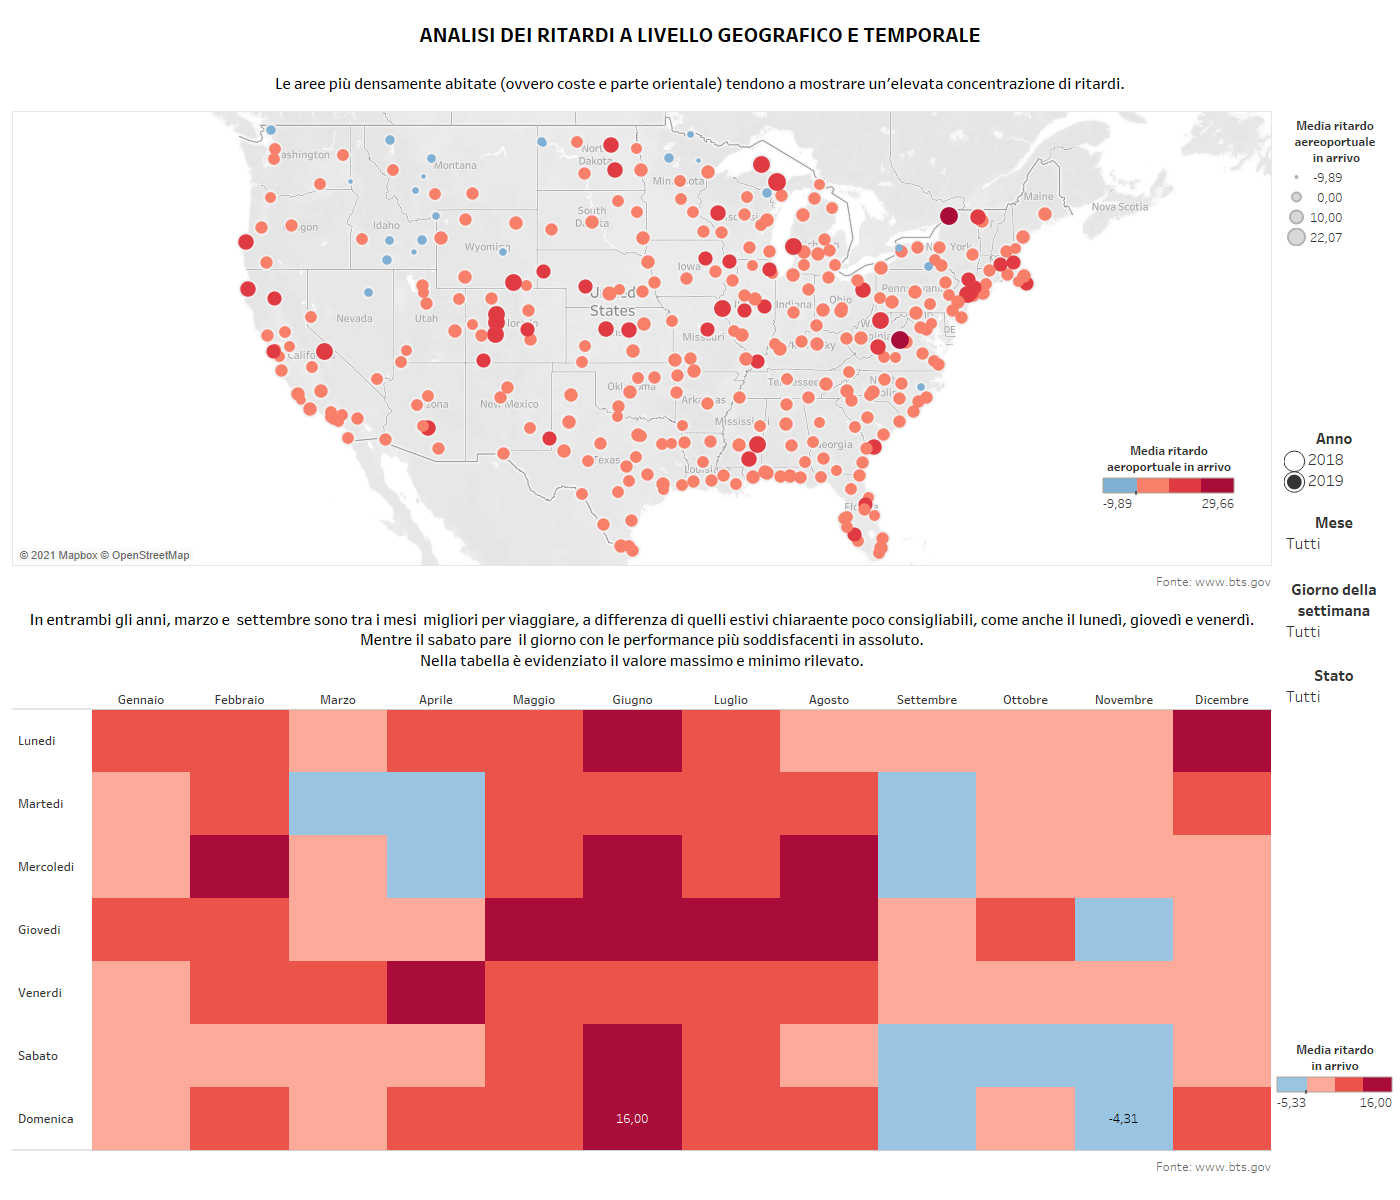

The dashboard page shown, as its layout file describes it:
{"tool":"tableau","page":{"name":"Dashboard2","canvas":[1400,1200],"ordinal":2},"visuals":[{"type":"worksheet","box":[0,0,1400,1200]},{"type":"worksheet","box":[8,8,1384,52]},{"type":"worksheet","box":[8,60,1384,46.7]},{"type":"worksheet","param":"horz","box":[8,106.7,1384,1085.3]},{"type":"worksheet","box":[8,106.7,1384,1085.3]},{"type":"worksheet","title":"mappa","mark":"Automatic","rows":["Dest_airport_coordinates - Divisione 2"],"cols":["Dest_airport_coordinates - Divisione 1"],"box":[8,106.7,1267.9,488.2]},{"type":"worksheet","param":"vert","box":[1275.9,106.7,116.1,1085.3]},{"type":"worksheet","title":"mappa","mark":"Automatic","rows":["Dest_airport_coordinates - Divisione 2"],"cols":["Dest_airport_coordinates - Divisione 1"],"param":"[federated.0pieon81nj26g817genev0jxk5vg].[avg:ARR_DELAY:qk]","box":[1279.9,110.7,108.1,312]},{"type":"worksheet","title":"mappa","mark":"Automatic","rows":["Dest_airport_coordinates - Divisione 2"],"cols":["Dest_airport_coordinates - Divisione 1"],"param":"[federated.0pieon81nj26g817genev0jxk5vg].[none:YEAR:nk]","box":[1279.9,422.7,108.1,84]},{"type":"worksheet","title":"mappa","mark":"Automatic","rows":["Dest_airport_coordinates - Divisione 2"],"cols":["Dest_airport_coordinates - Divisione 1"],"param":"[federated.0pieon81nj26g817genev0jxk5vg].[avg:ARR_DELAY:qk]","box":[1099.2,438.3,140,91.4]},{"type":"worksheet","title":"tabella_colori","mark":"Square","rows":["DAY_OF_WEEK"],"cols":["MONTH"],"param":"[federated.0pieon81nj26g817genev0jxk5vg].[none:MONTH:nk]","box":[1279.9,506.7,108.1,67]},{"type":"worksheet","title":"tabella_colori","mark":"Square","rows":["DAY_OF_WEEK"],"cols":["MONTH"],"param":"[federated.0pieon81nj26g817genev0jxk5vg].[none:DAY_OF_WEEK:nk]","box":[1279.9,573.7,108.1,86]},{"type":"worksheet","box":[8,594.9,1267.9,89.7]},{"type":"worksheet","title":"mappa","mark":"Automatic","rows":["Dest_airport_coordinates - Divisione 2"],"cols":["Dest_airport_coordinates - Divisione 1"],"param":"[federated.0pieon81nj26g817genev0jxk5vg].[none:DEST_STATE_NM:nk]","box":[1279.9,659.7,108.1,87]},{"type":"worksheet","title":"tabella_colori","mark":"Square","rows":["DAY_OF_WEEK"],"cols":["MONTH"],"box":[8,684.6,1267.9,507.4]},{"type":"worksheet","title":"tabella_colori","mark":"Square","rows":["DAY_OF_WEEK"],"cols":["MONTH"],"param":"[federated.0pieon81nj26g817genev0jxk5vg].[avg:ARR_DELAY:qk]","box":[1273.1,1037.1,123.6,87.9]}]}

Visuals, with their boxes in screenshot pixels (x1, y1, x2, y2), scaled from the page's 1400x1200 canvas onto the 1400x1200 screenshot:
worksheet: 0:0:1399:1199
worksheet: 8:8:1392:60
worksheet: 8:60:1392:107
worksheet: 8:107:1392:1192
worksheet: 8:107:1392:1192
"mappa" worksheet: 8:107:1276:595
worksheet: 1276:107:1392:1192
"mappa" worksheet: 1280:111:1388:423
"mappa" worksheet: 1280:423:1388:507
"mappa" worksheet: 1099:438:1239:530
"tabella_colori" worksheet (Square marks): 1280:507:1388:574
"tabella_colori" worksheet (Square marks): 1280:574:1388:660
worksheet: 8:595:1276:685
"mappa" worksheet: 1280:660:1388:747
"tabella_colori" worksheet (Square marks): 8:685:1276:1192
"tabella_colori" worksheet (Square marks): 1273:1037:1397:1125
